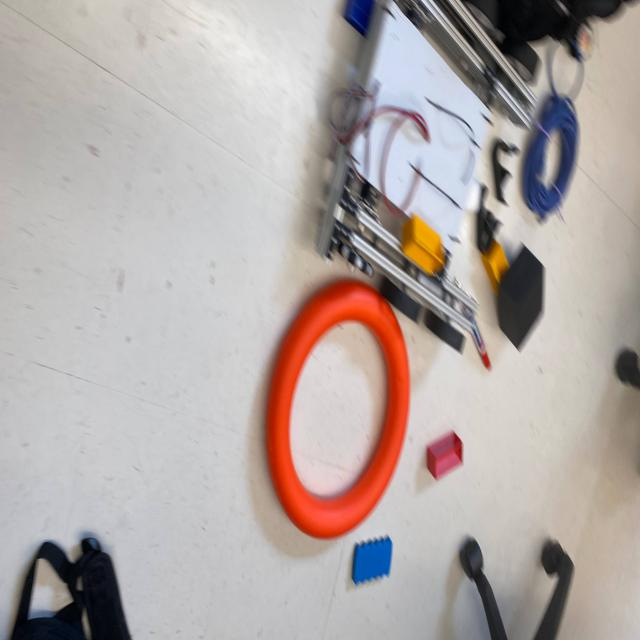blue-specimen: (343, 0, 375, 36)
red-specimen: (427, 431, 462, 480)
yellow-specimen: (402, 215, 444, 275), (481, 239, 510, 295)
